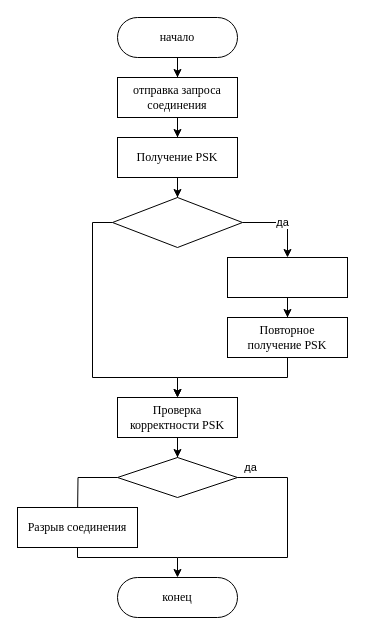
Some shapes in this 365 by 635 pixel diagram are drawn without their labels. Each missing label, with the centre of its shape:
PSK корректен?: the point at 177,477
первое подключение?: the point at 177,222
Сохранение полученного PSK: the point at 287,277
